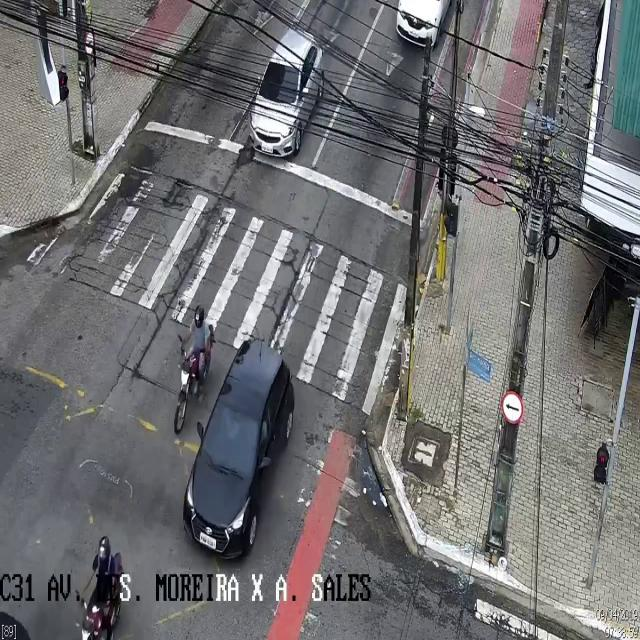Car: (183, 339, 294, 561), (250, 26, 324, 156), (387, 0, 462, 53)
Motorcycle: (173, 306, 213, 433), (75, 536, 123, 639)
